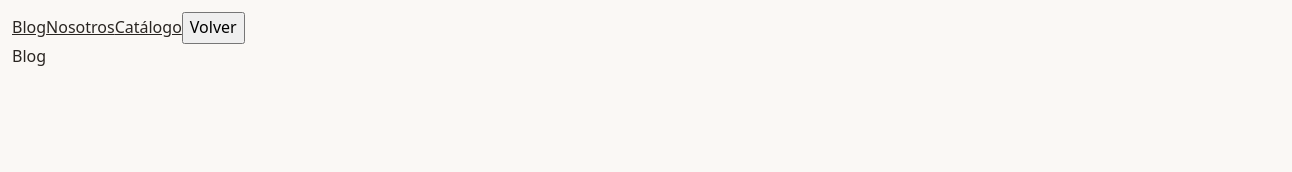
Scenario: un enlace con ancla no sube al inicio: la landing baja a su sección
This screenshot has width=1292, height=172.
Click the link "Nosotros": (80, 27) [46, 16, 115, 38]
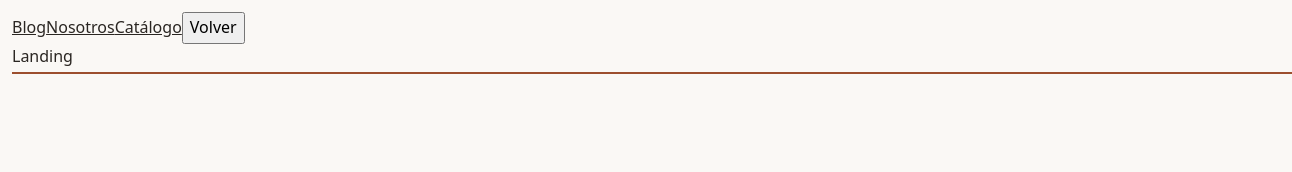
Now the text "Landing" is shown, box [12, 45, 73, 67]
